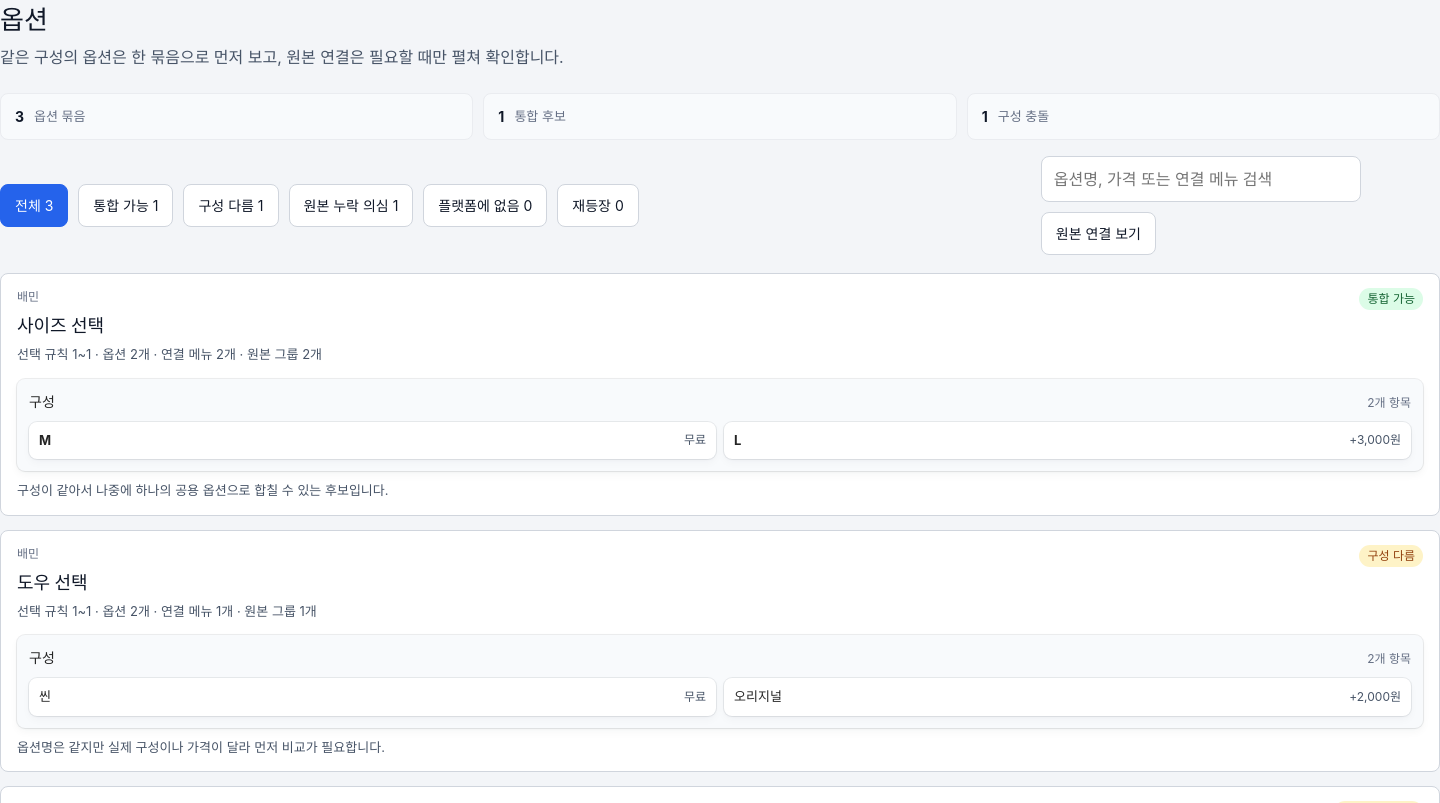
Test: OptionPage › filters option bundles by status
Click the button "원본 누락 의심 1" at coordinates (351, 206), box x1=288 y1=184 x2=413 y2=227
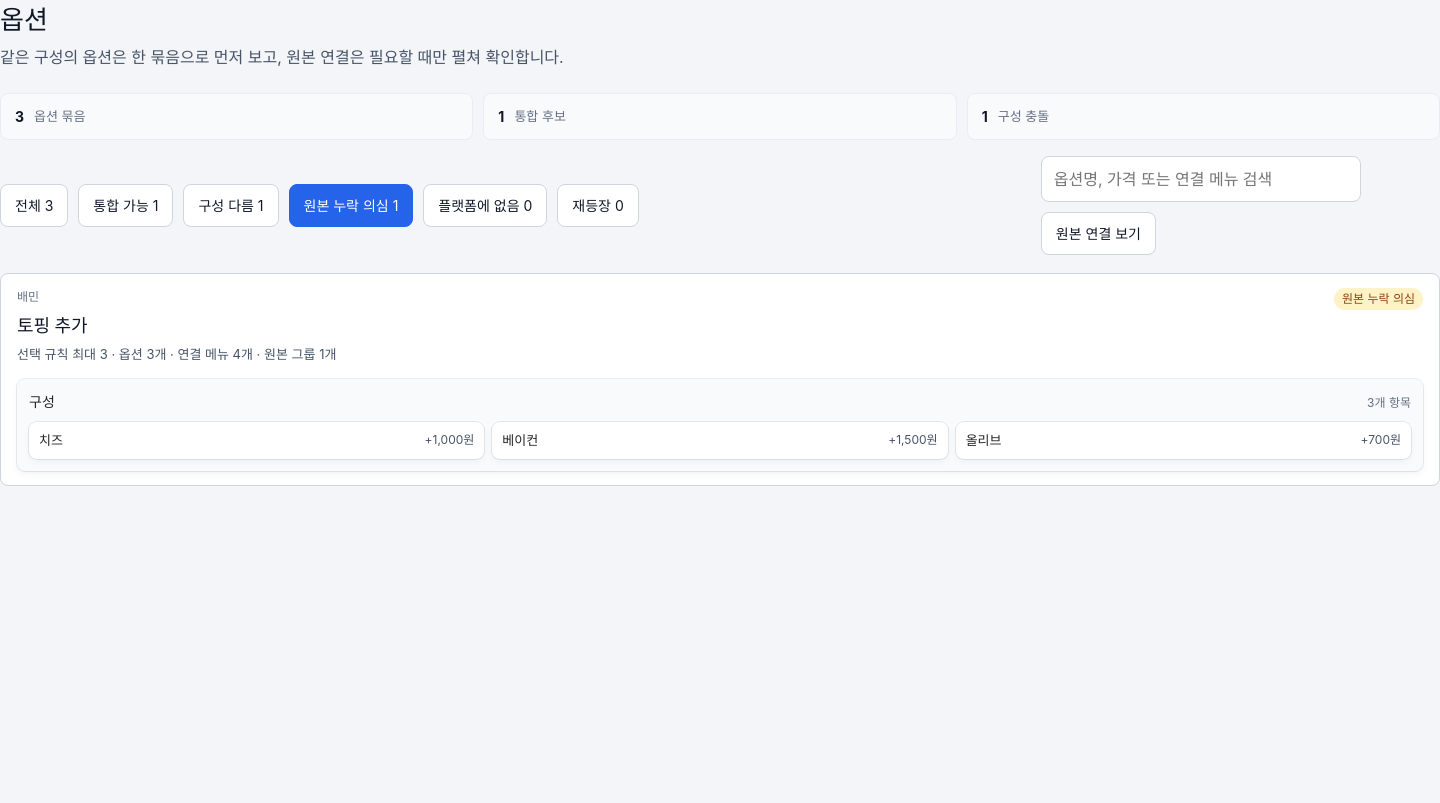
Expected: the heading "토핑 추가" is shown, x1=17 y1=315 x2=88 y2=336
Now the heading "사이즈 선택" is gone
